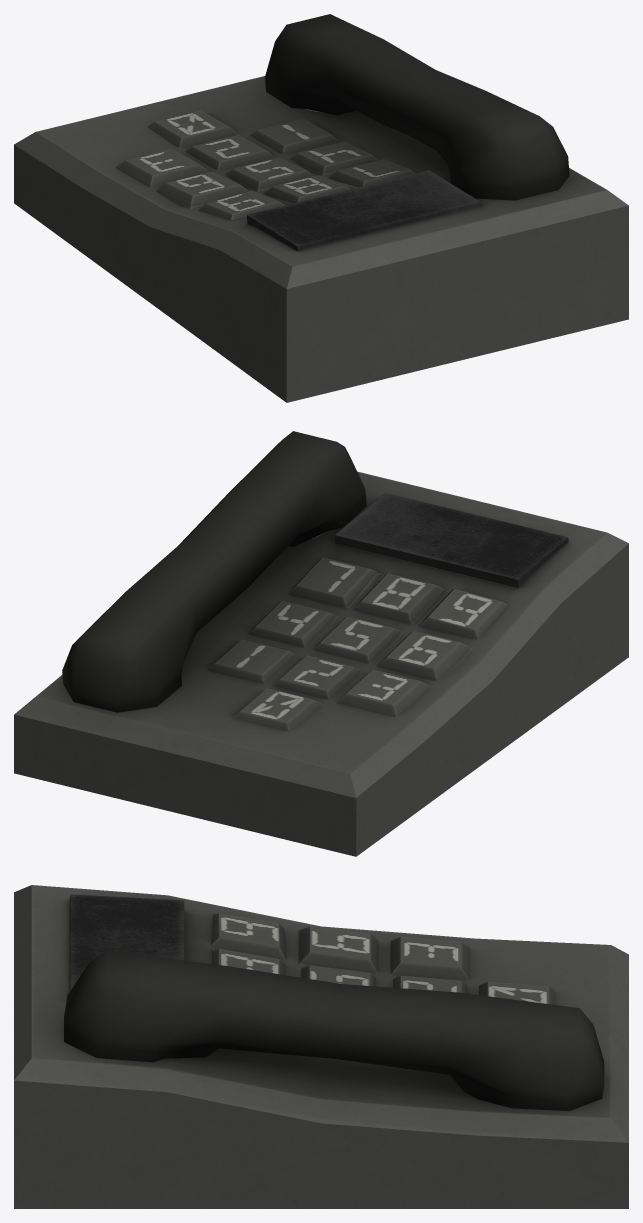
Rendered from DeskPhone.fbx.
3 views of the same model, one above another, from view 1: azimuth 30°, elevation 25°; view 2: azimuth 150°, elevation 25°; view 3: azimuth 270°, elevation 25° (orthographic). The views are drawn at different scales.
Visible parts, largest first — view 1: DeskPhone; view 2: DeskPhone; view 3: DeskPhone.
Boxes of the visible parts, bbox=[...] form: DeskPhone: bbox=[14, 14, 628, 402]; DeskPhone: bbox=[14, 431, 628, 856]; DeskPhone: bbox=[14, 885, 628, 1208].
Size of the model in its own units: 27.72 by 10.35 by 20.08.
